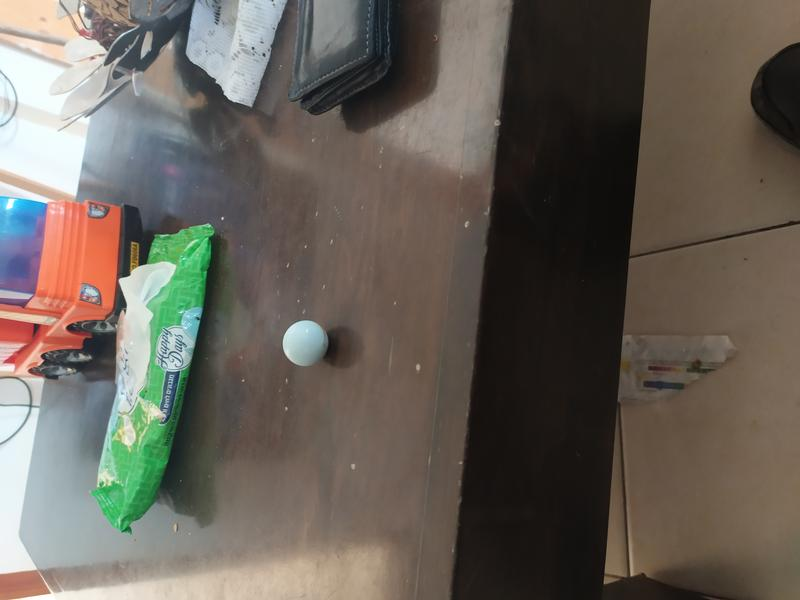Warning: (280, 318, 331, 369)
